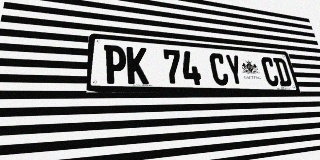4: (180, 50, 202, 85)
7: (162, 49, 184, 85)
C: (209, 53, 230, 85), (260, 57, 280, 86)
D: (273, 58, 293, 86)
K: (126, 46, 149, 84)
P: (104, 45, 127, 84)
Y: (224, 54, 245, 86)
